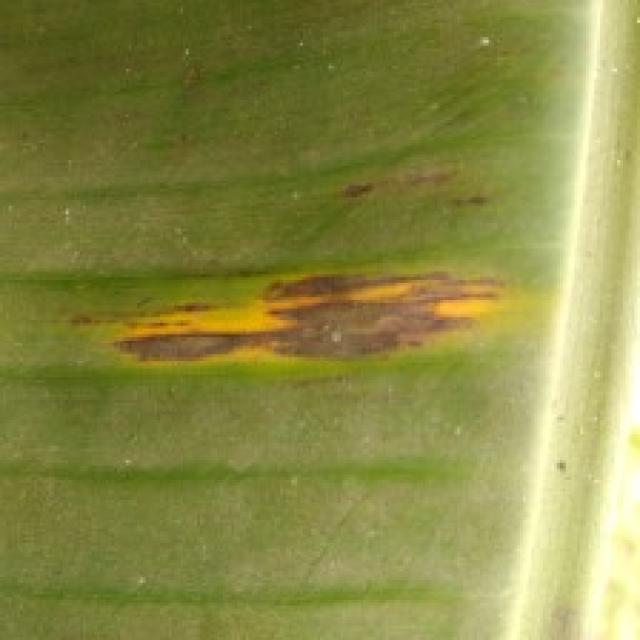Early_leaf_spot: (52, 181, 516, 427)
